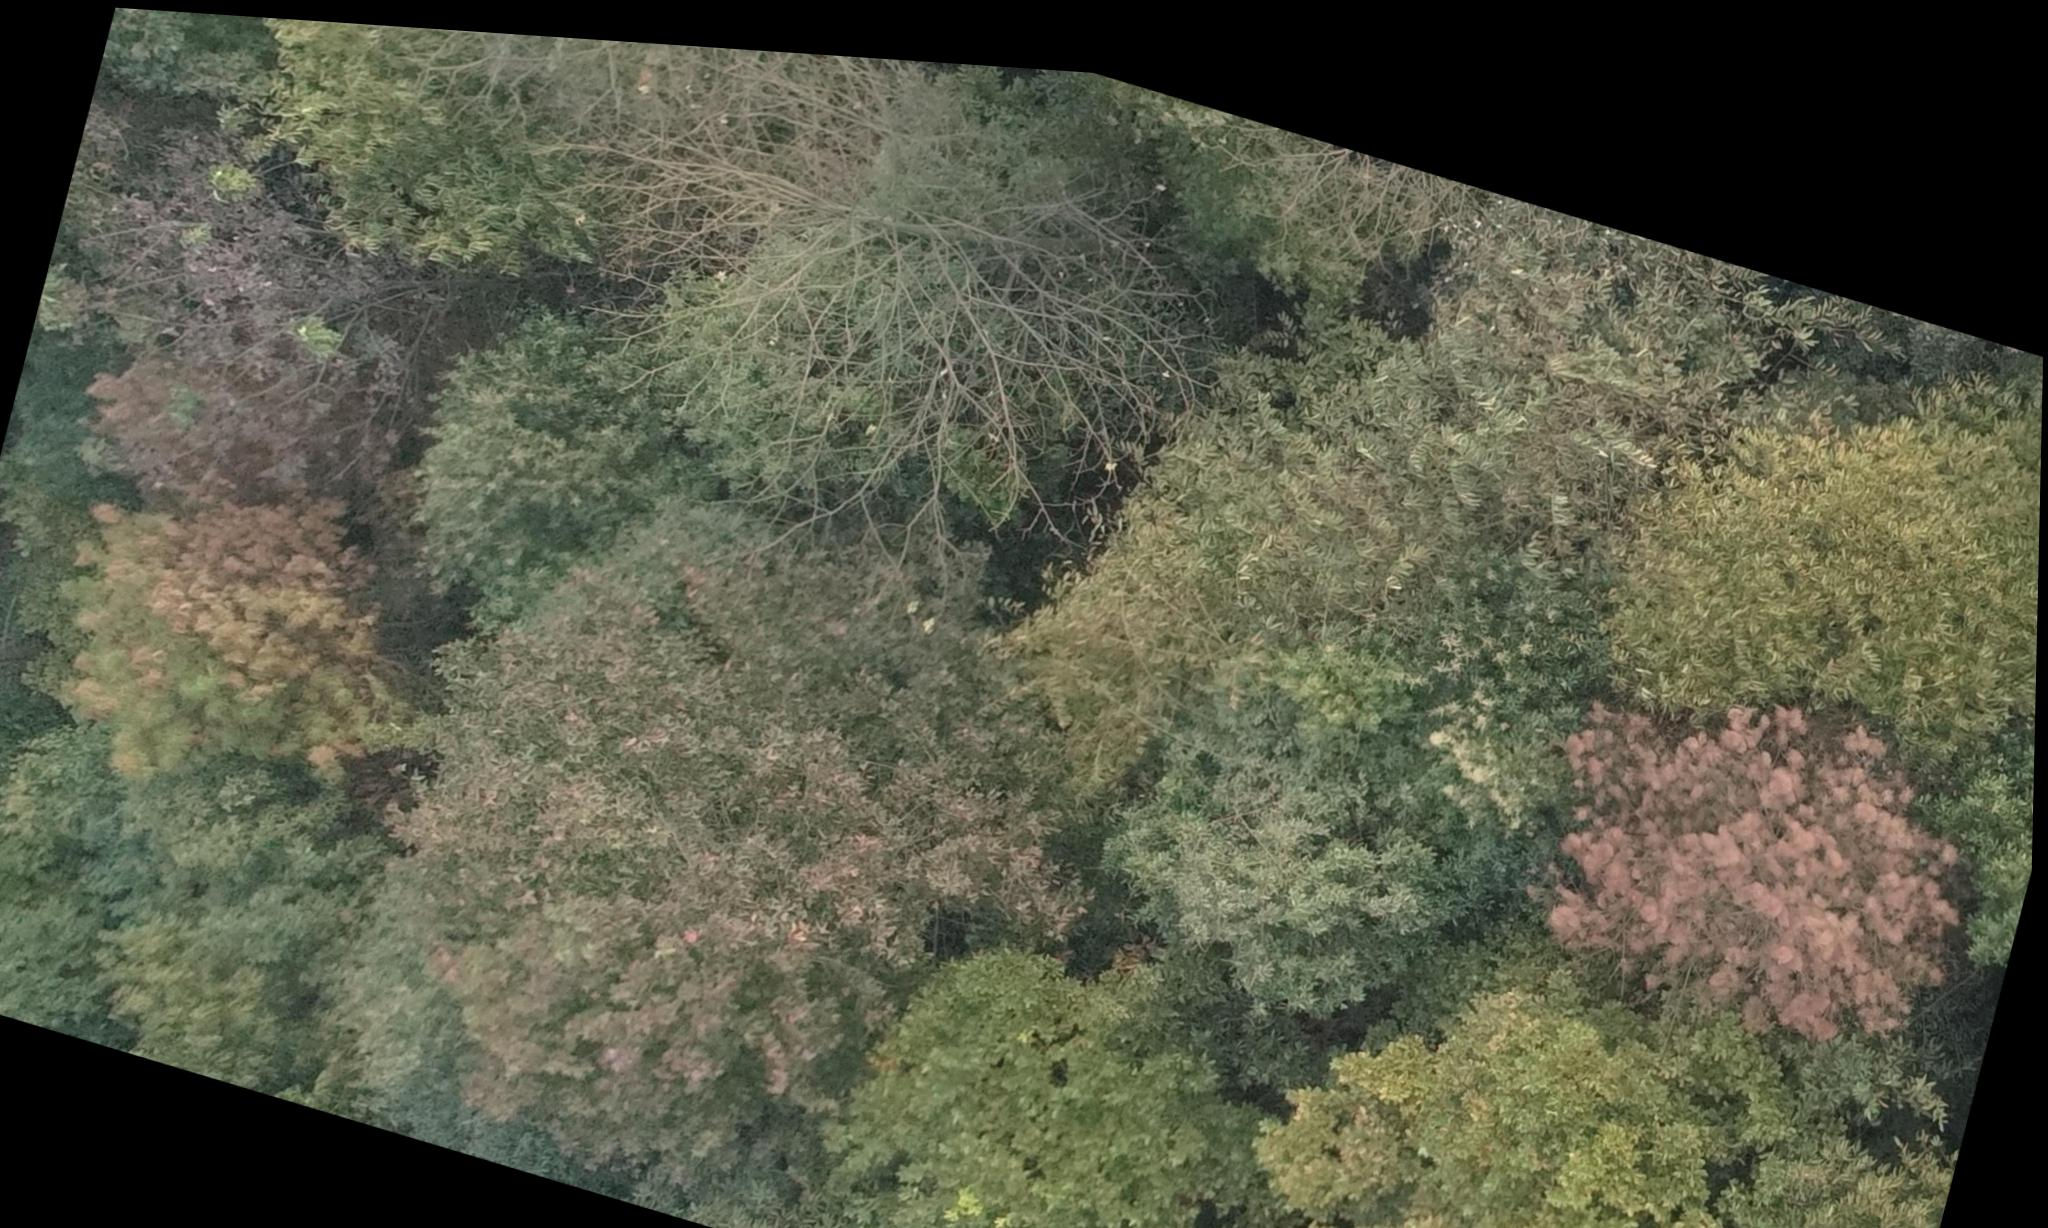dead: (513, 28, 1247, 557)
heavy: (1525, 615, 2006, 1070)
light: (12, 453, 434, 841)
